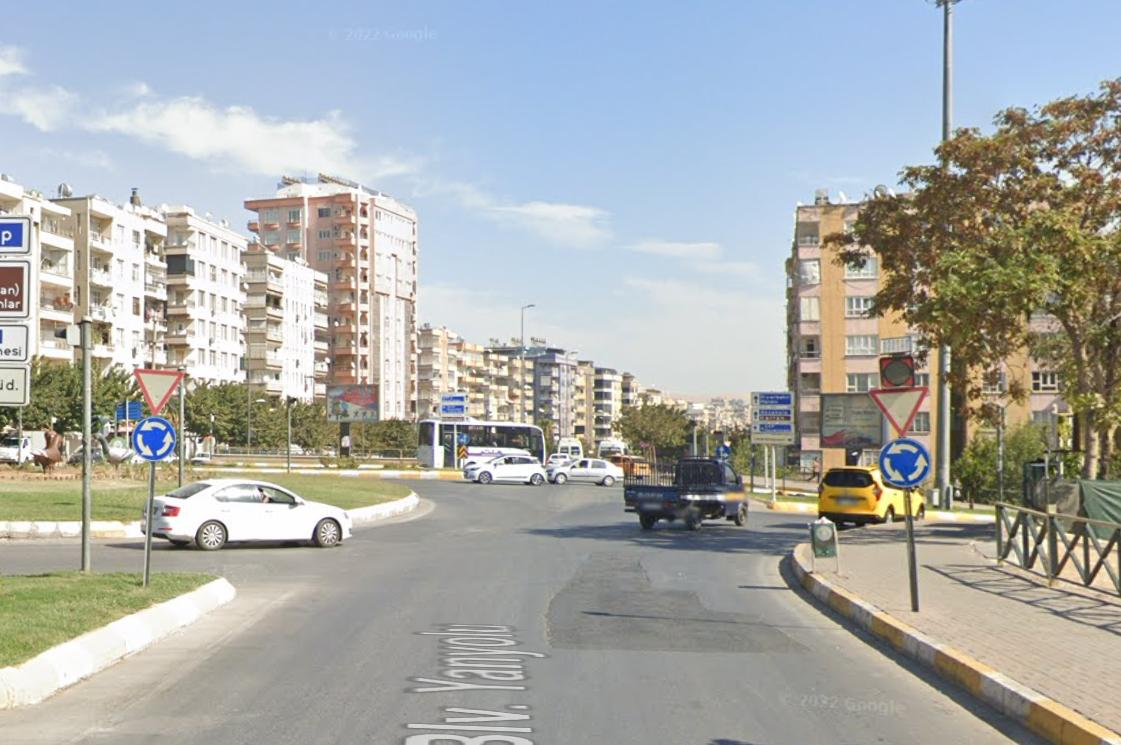crossroads: (878, 438, 933, 482), (135, 418, 175, 457)
